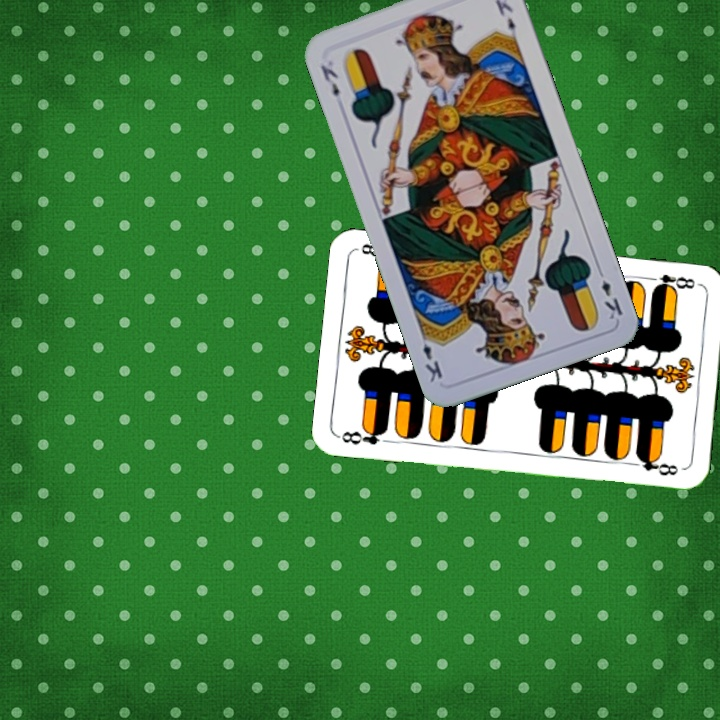E8: (643, 270, 702, 295), (336, 423, 390, 448)
EK: (593, 263, 626, 322), (316, 60, 342, 100)
